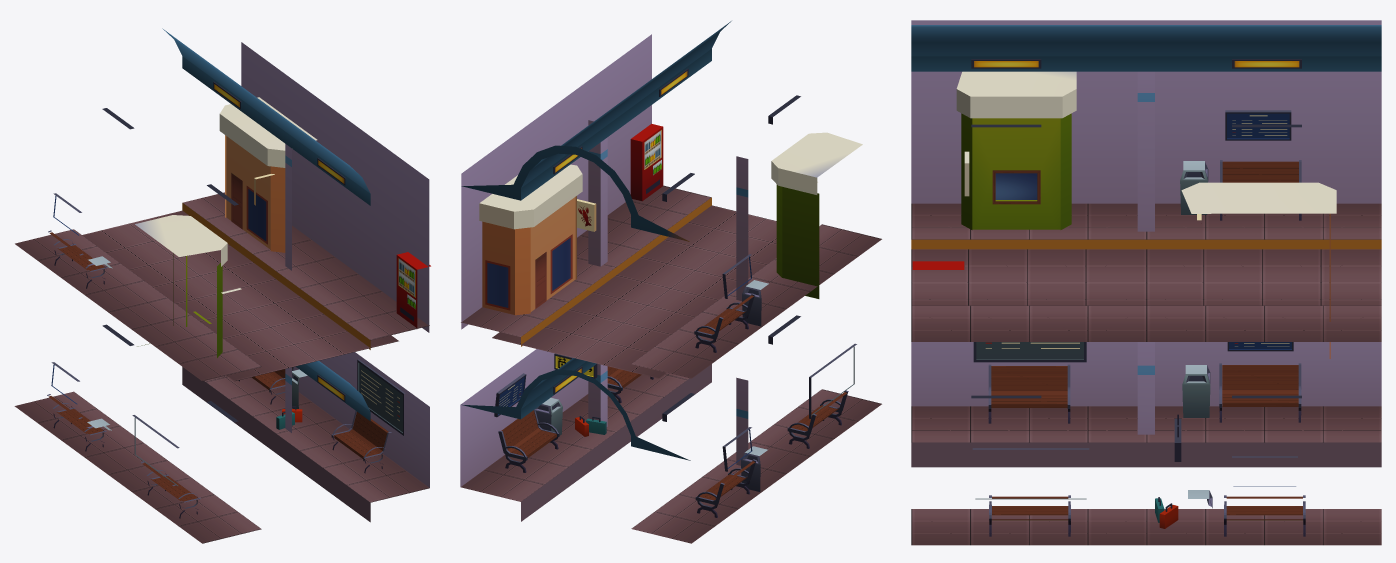
The model's file is 1.100_SanFrancisco_station_mid.glb.
3 views of the same model, side by side, from view 1: azimuth 30°, elevation 25°; view 2: azimuth 150°, elevation 25°; view 3: azimuth 270°, elevation 25° (orthographic). The views are drawn at different scales.
Parts seen in each view (by area): view 1: 1.100_SanFrancisco_station_mid; view 2: 1.100_SanFrancisco_station_mid; view 3: 1.100_SanFrancisco_station_mid.
Boxes of the visible parts, bbox=[...] form: 1.100_SanFrancisco_station_mid: bbox=[14, 28, 430, 543]; 1.100_SanFrancisco_station_mid: bbox=[460, 21, 881, 543]; 1.100_SanFrancisco_station_mid: bbox=[911, 20, 1381, 545].
Size of the model in its own units: 129 by 203 by 180.
3 materials, 3 textured.
